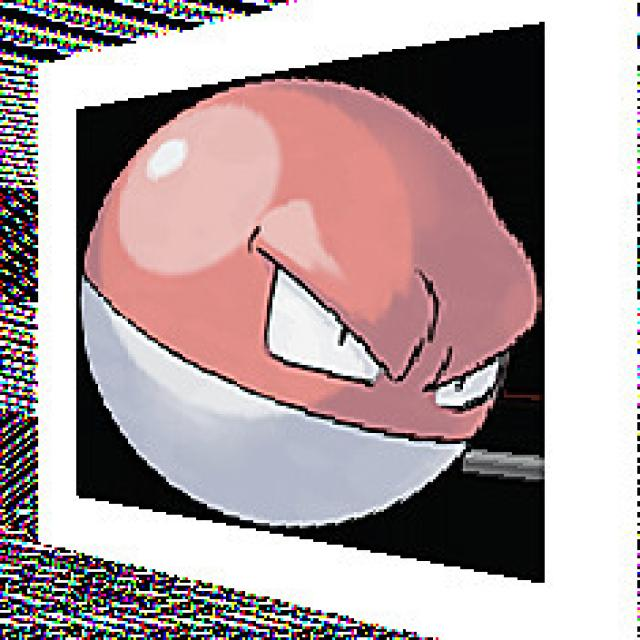Voltorb: (79, 78, 534, 522)
